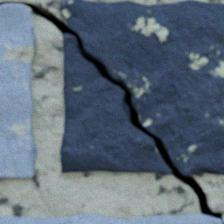brick: (0, 5, 37, 178)
broken_brick: (60, 0, 223, 174), (60, 34, 171, 174), (0, 214, 223, 223)
crack: (0, 1, 223, 223)
